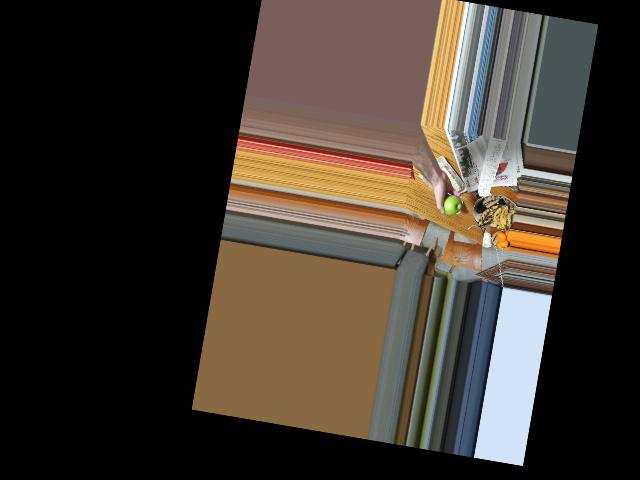apple: (438, 191, 462, 217)
